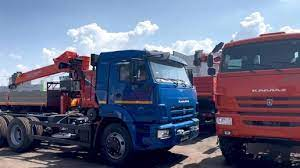Truck: (0, 50, 199, 165), (214, 33, 300, 167), (186, 44, 222, 127)
